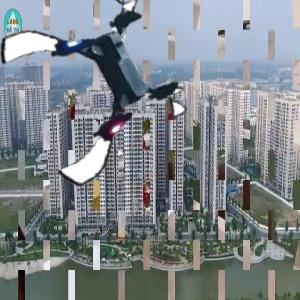drone: (10, 2, 183, 175)
